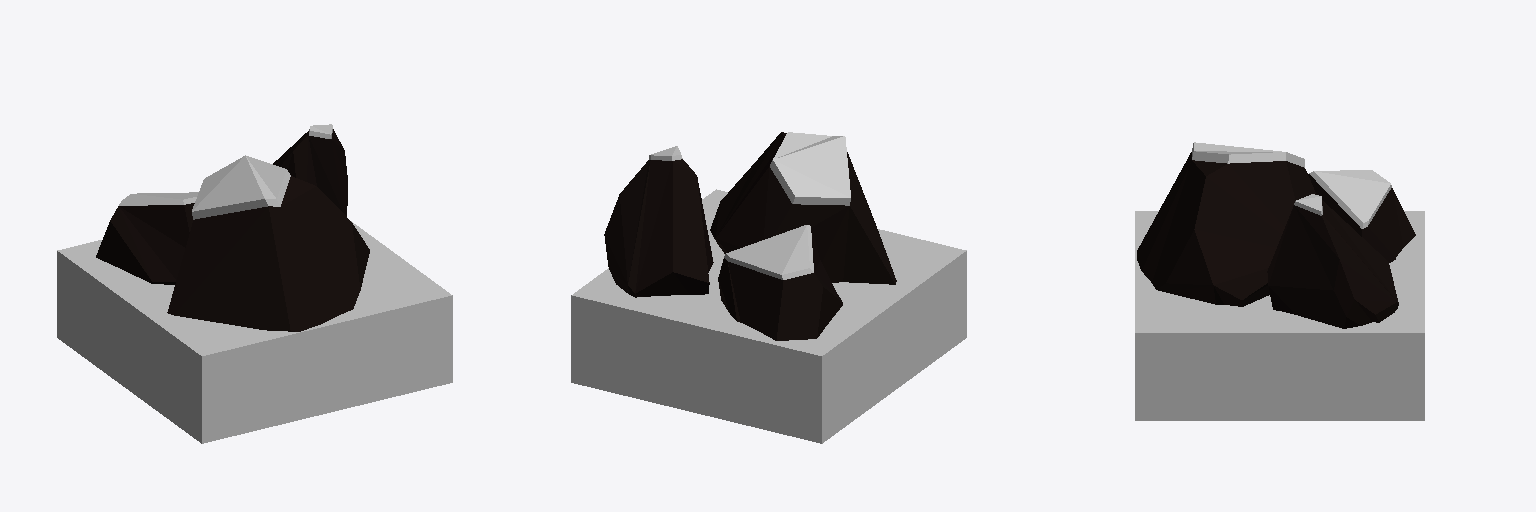
The model's file is Tile_Rock_2.obj.
3 views of the same model, side by side, from view 1: azimuth 30°, elevation 25°; view 2: azimuth 150°, elevation 25°; view 3: azimuth 270°, elevation 25° (orthographic).
Parts seen in each view (by area): view 1: Cube, Cube.007_Cube.008, Cube.002_Cube.011, Cube.001_Cube.013; view 2: Cube, Cube.007_Cube.008, Cube.001_Cube.013, Cube.002_Cube.011; view 3: Cube, Cube.007_Cube.008, Cube.001_Cube.013, Cube.002_Cube.011.
Part boxes in pixels (left/top/right/bottom): Cube: left=57, top=221, right=452, bottom=443; Cube.007_Cube.008: left=167, top=155, right=369, bottom=331; Cube.002_Cube.011: left=96, top=192, right=198, bottom=284; Cube.001_Cube.013: left=273, top=124, right=347, bottom=215; Cube: left=571, top=189, right=966, bottom=443; Cube.007_Cube.008: left=710, top=132, right=896, bottom=284; Cube.001_Cube.013: left=604, top=146, right=713, bottom=297; Cube.002_Cube.011: left=718, top=225, right=842, bottom=340; Cube: left=1135, top=211, right=1424, bottom=420; Cube.007_Cube.008: left=1137, top=142, right=1316, bottom=306; Cube.001_Cube.013: left=1267, top=194, right=1398, bottom=328; Cube.002_Cube.011: left=1308, top=170, right=1415, bottom=262.
Bounding box in the file's own units: 3.03 × 2.38 × 3.